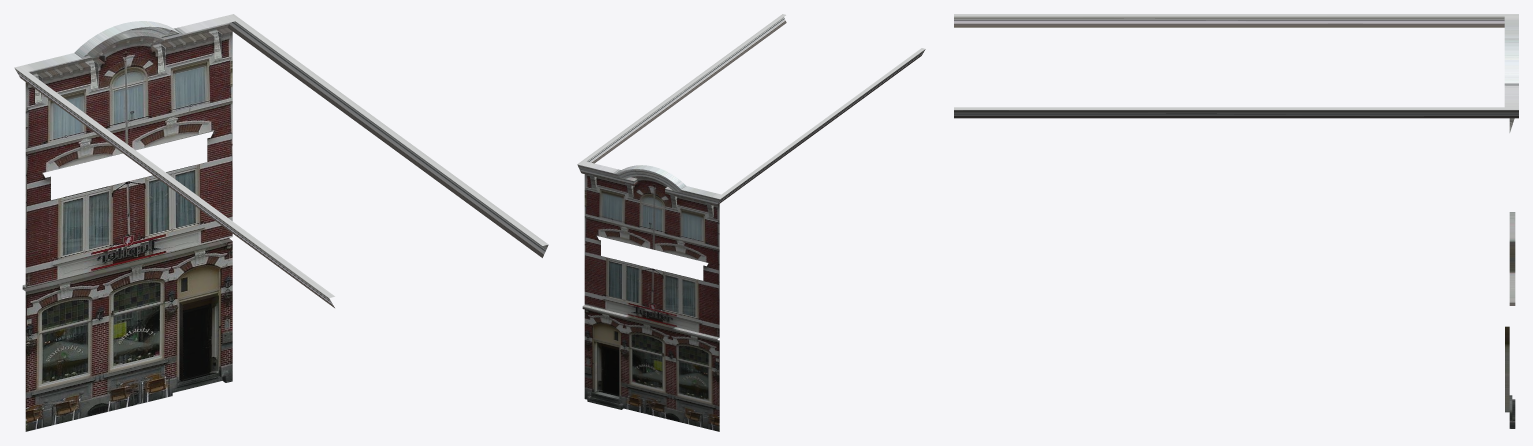
File: Auto55.fbx
3 renders of one model, left to right at view 1: azimuth 30°, elevation 25°; view 2: azimuth 150°, elevation 25°; view 3: azimuth 270°, elevation 25°, orthographic. The views are drawn at different scales.
Visible parts, largest first — view 1: group_2.003; view 2: group_2.003; view 3: group_2.003.
Boxes of the visible parts, bbox=[...] form: group_2.003: bbox=[14, 14, 548, 431]; group_2.003: bbox=[577, 14, 925, 431]; group_2.003: bbox=[954, 14, 1518, 428].
Size of the model in its own units: 1499 by 2477 by 3727.
